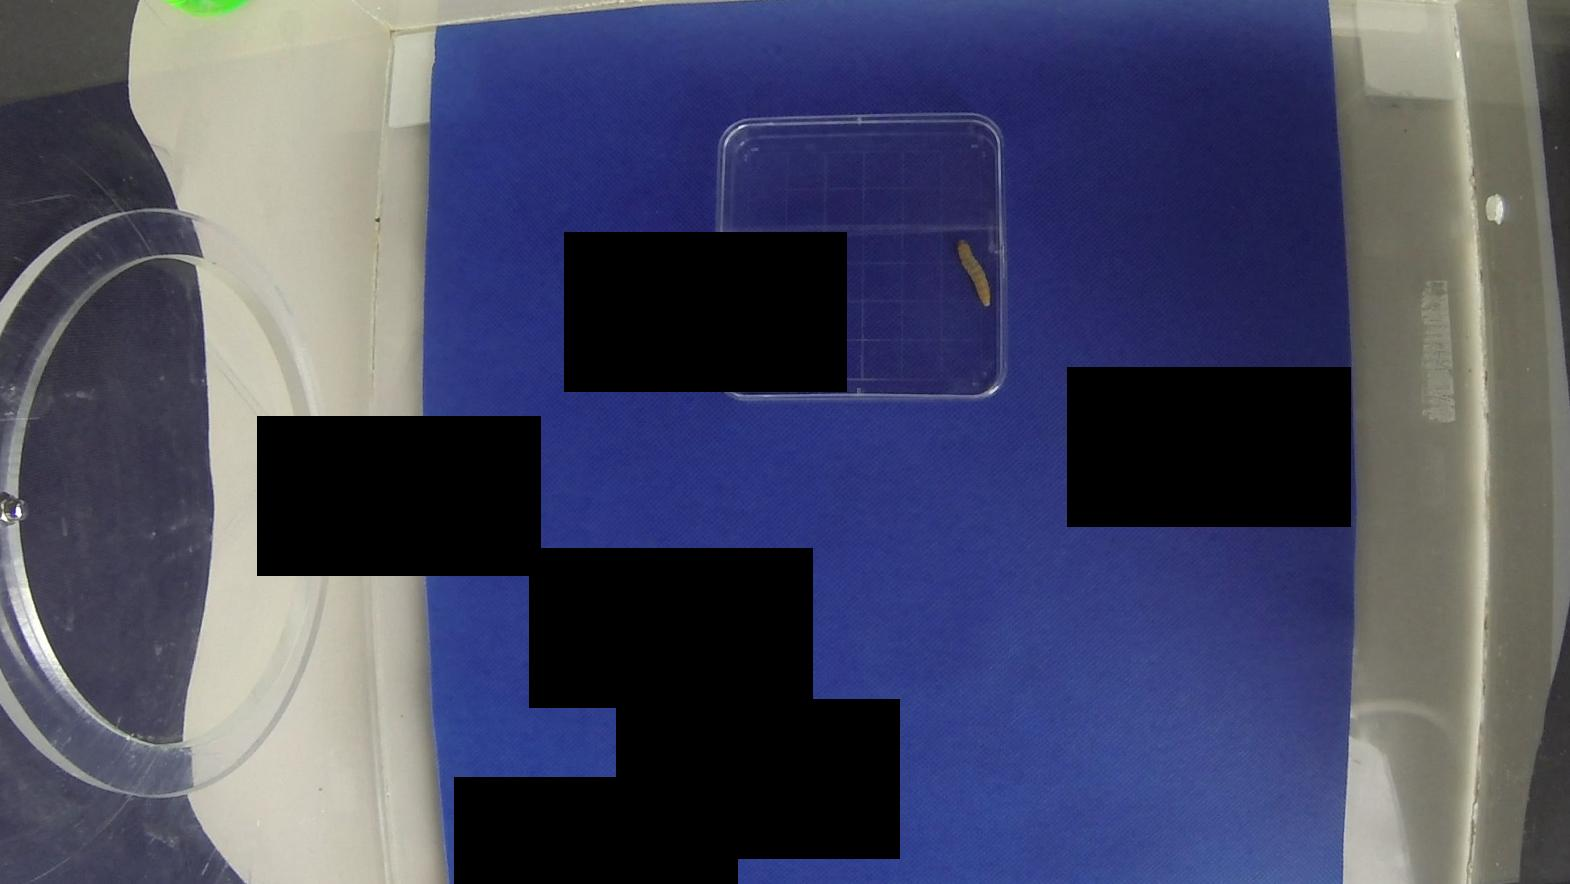larva: (948, 234, 1001, 310)
